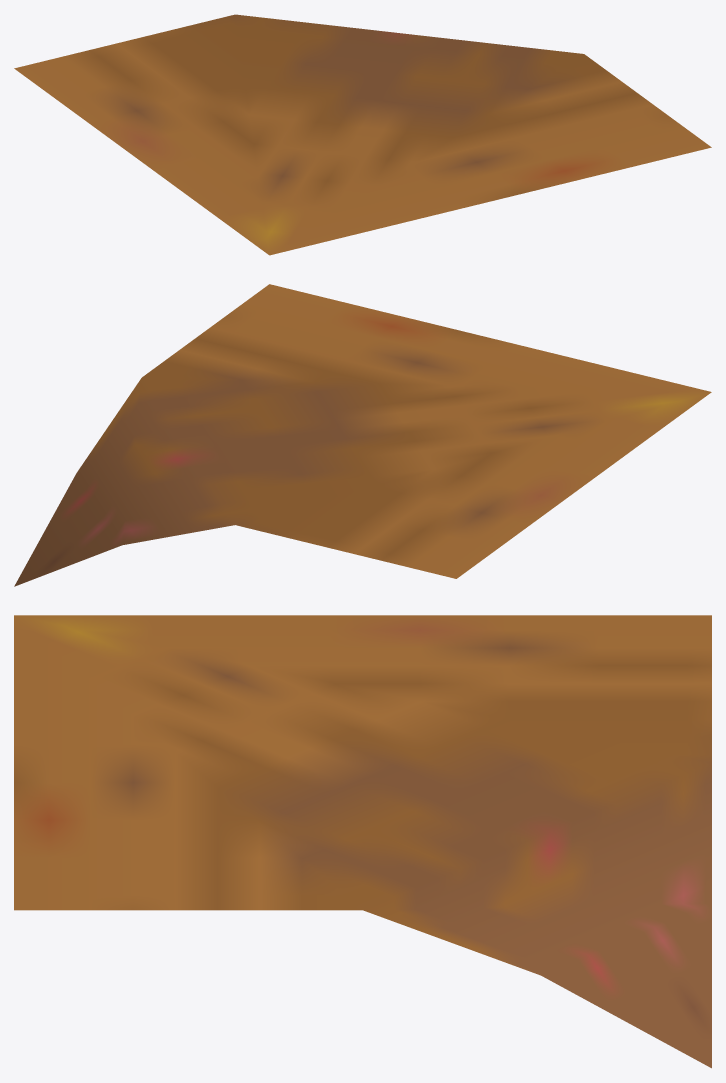
Rendered from water_shore_inner_corner.fbx.
The picture shows the model from 3 angles, top to bottom: view 1: azimuth 30°, elevation 25°; view 2: azimuth 150°, elevation 25°; view 3: azimuth 270°, elevation 25°; orthographic projection. The views are drawn at different scales.
Visible parts, largest first — view 1: water_shore_inner_corner; view 2: water_shore_inner_corner; view 3: water_shore_inner_corner.
Boxes of the visible parts, bbox=[...] form: water_shore_inner_corner: bbox=[14, 14, 711, 255]; water_shore_inner_corner: bbox=[14, 284, 711, 586]; water_shore_inner_corner: bbox=[14, 615, 711, 1068].
Bounding box in the file's own units: 200 × 50 × 200.
